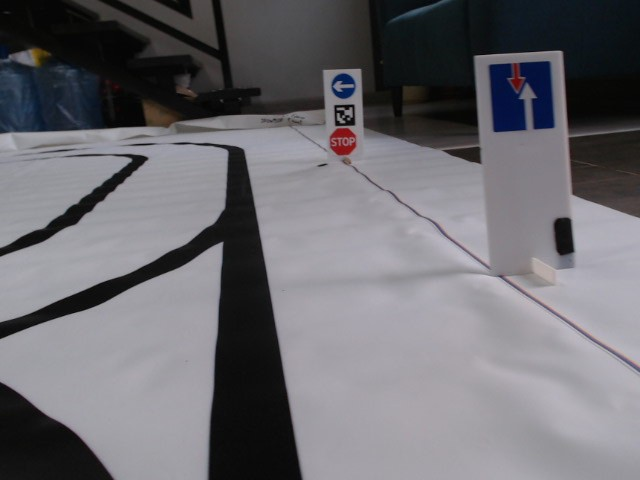Stop: (327, 125, 357, 157)
priority_movement: (486, 61, 559, 133)
